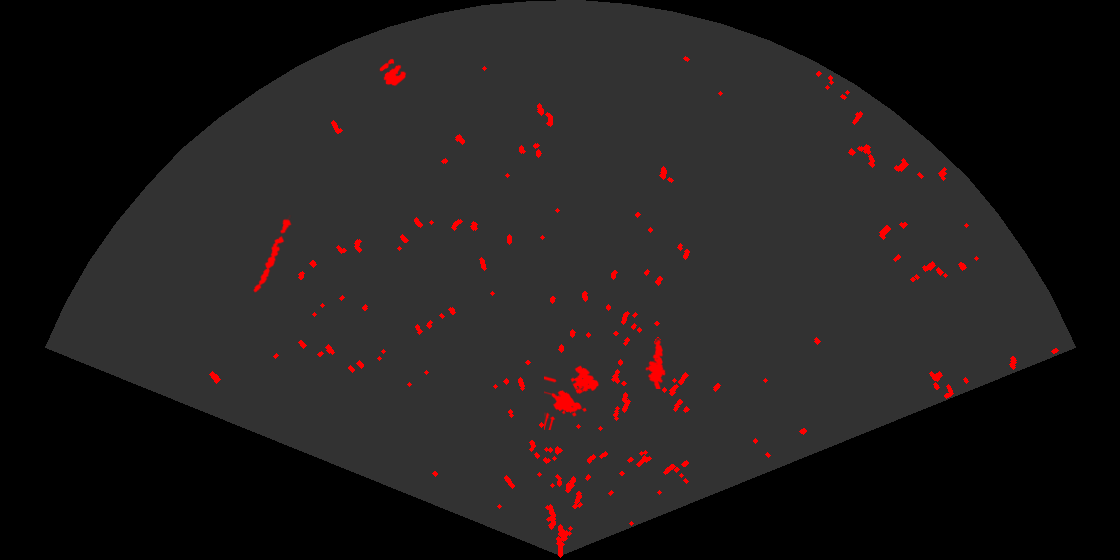ball: (378, 57, 408, 88)
cage: (544, 364, 601, 430)
chain: (252, 215, 293, 294)
frogman: (644, 338, 667, 389)
